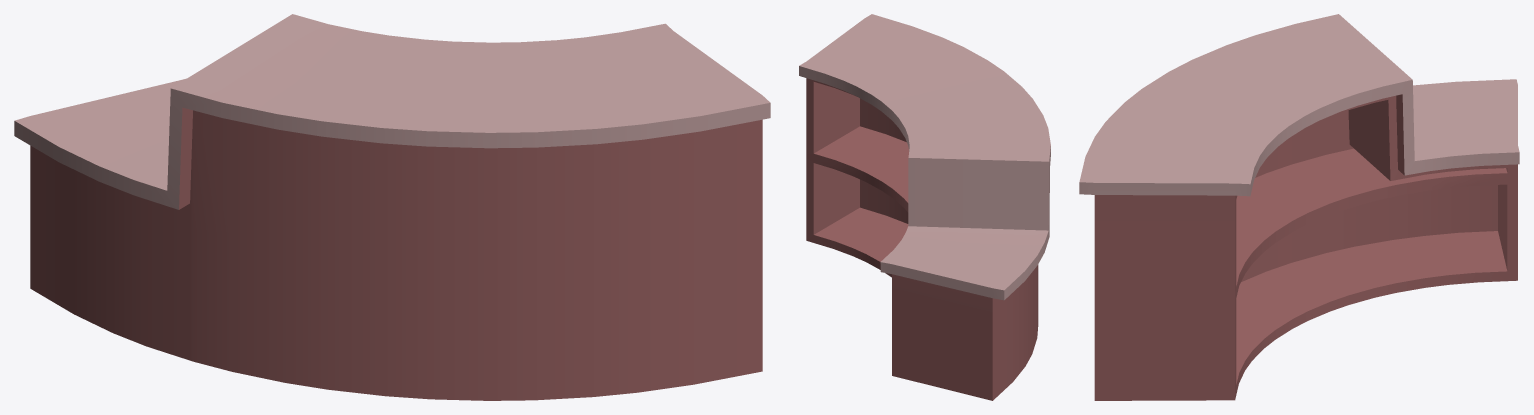
File: Counter.fbx
The picture shows the model from 3 angles, left to right: view 1: azimuth 30°, elevation 25°; view 2: azimuth 150°, elevation 25°; view 3: azimuth 270°, elevation 25°; orthographic projection. The views are drawn at different scales.
Visible parts, largest first — view 1: Counter; view 2: Counter; view 3: Counter.
Part boxes in pixels (<box>): Counter: <box>14,14,770,400</box>; Counter: <box>799,14,1050,400</box>; Counter: <box>1079,14,1519,400</box>.
Size of the model in its own units: 1.87 by 1.02 by 1.87.
